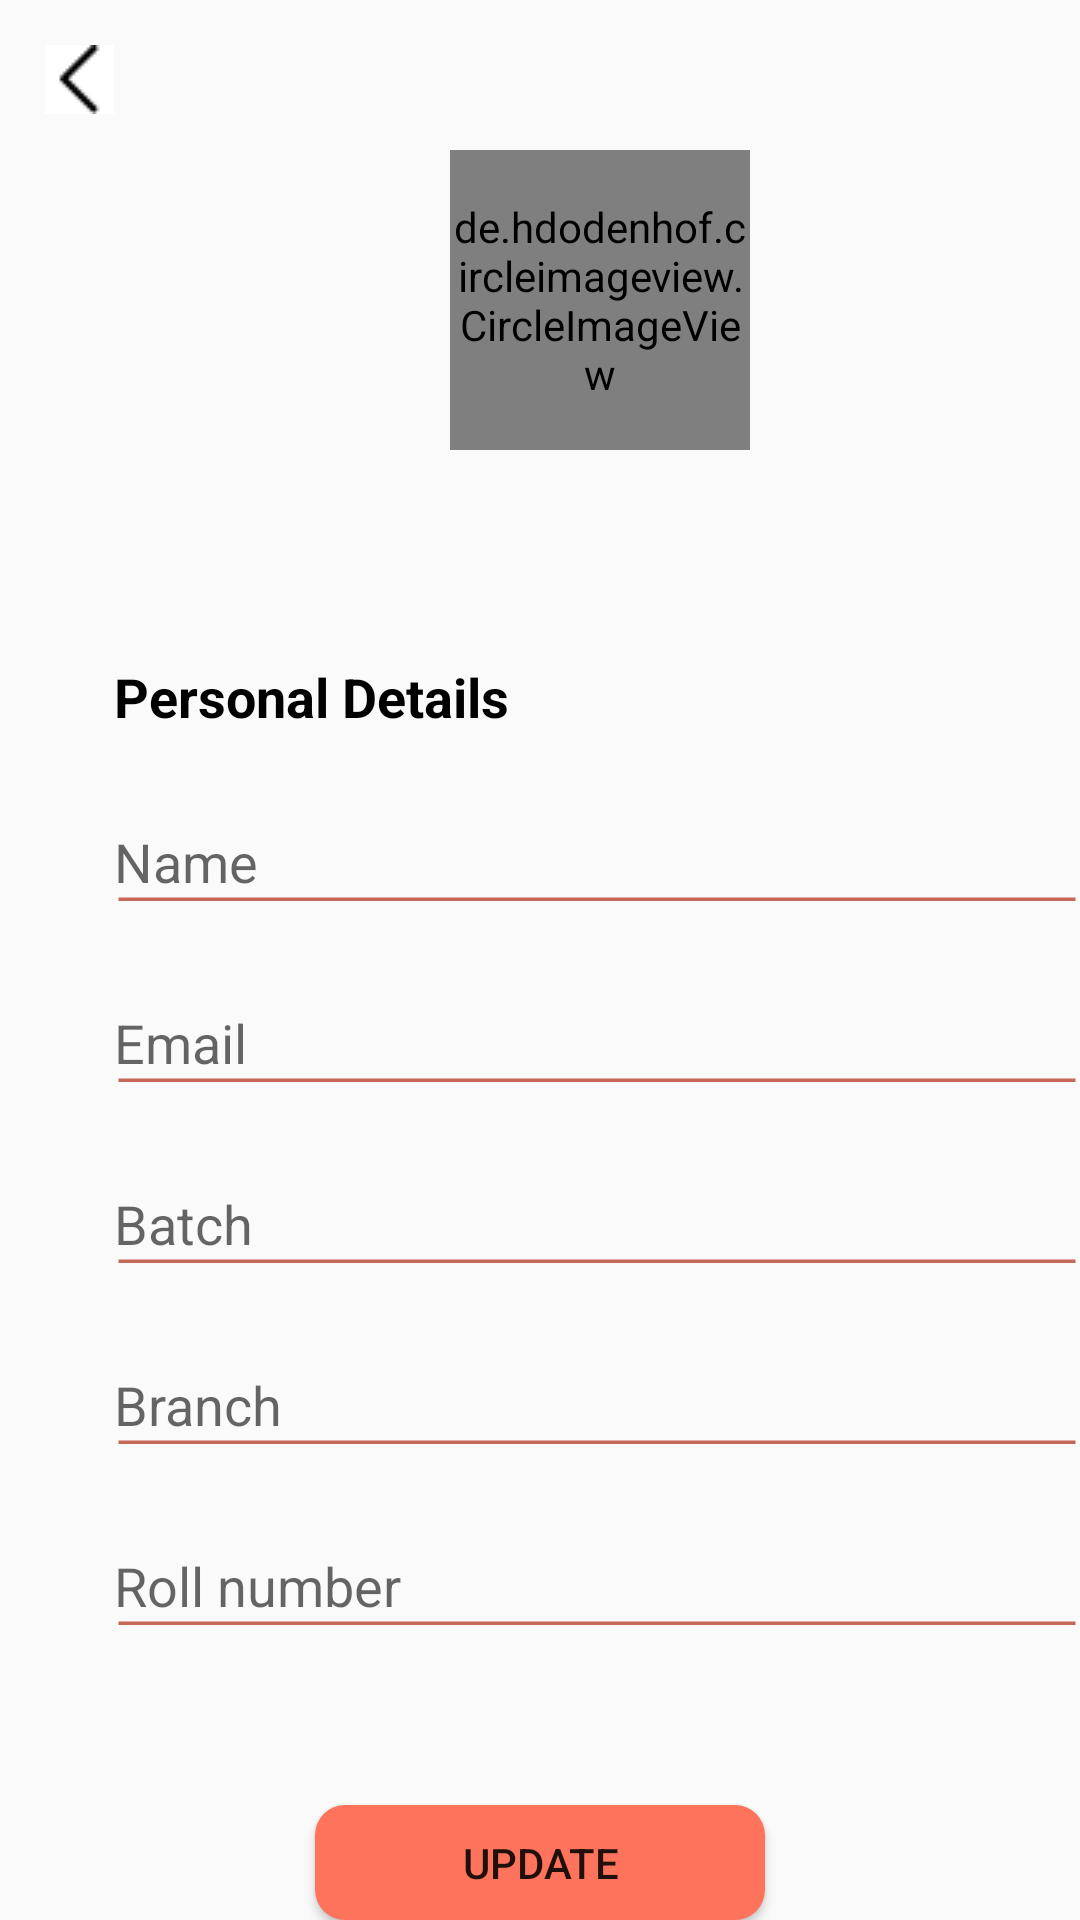

Point at icon controls on the screen. Image size 1080x1920, points as [x,y].
back: [79,79]
